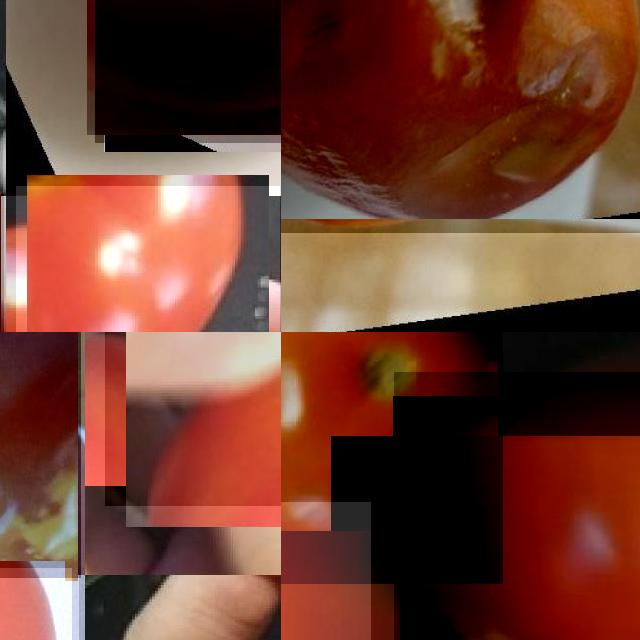0: (16, 185, 279, 332), (95, 0, 281, 143)
Fresh Tomato: (394, 372, 640, 640), (281, 332, 503, 584)
Rotten Tomato: (281, 0, 640, 233), (105, 332, 281, 506), (0, 332, 81, 578)
